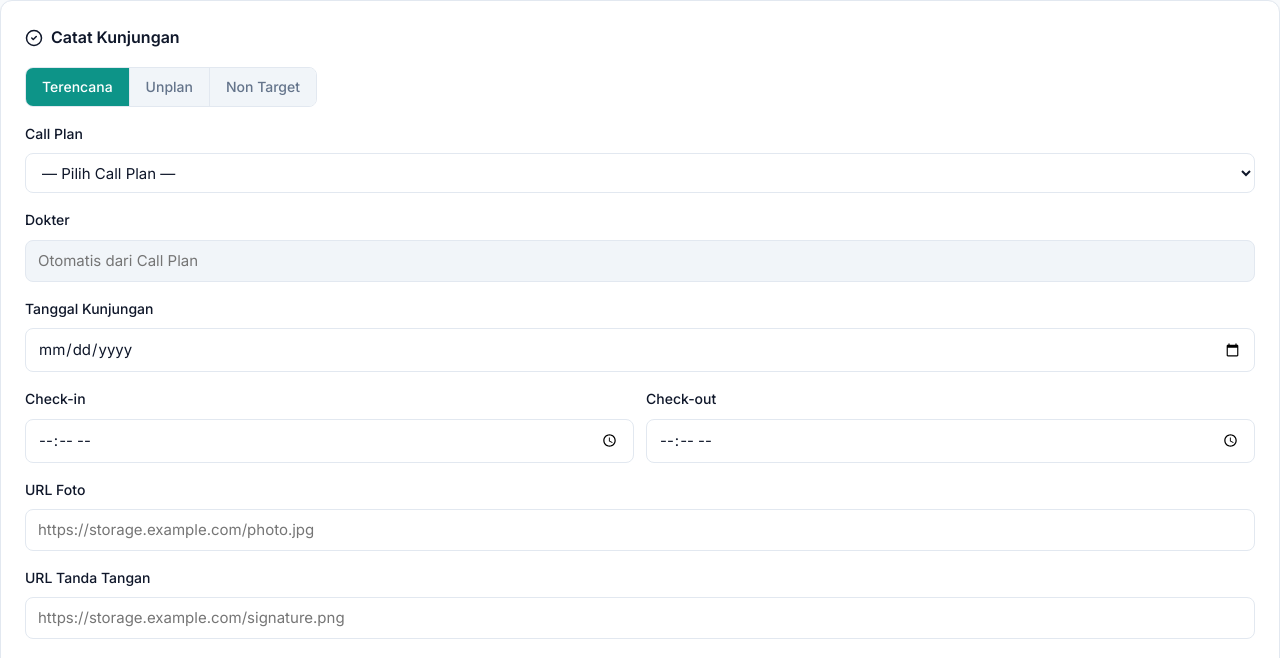
it: CallActualForm — mode switching › switching to Non Target shows MCL Doctor dropdown
Click the button "Non Target" at (263, 87), box [210,68,316,106]
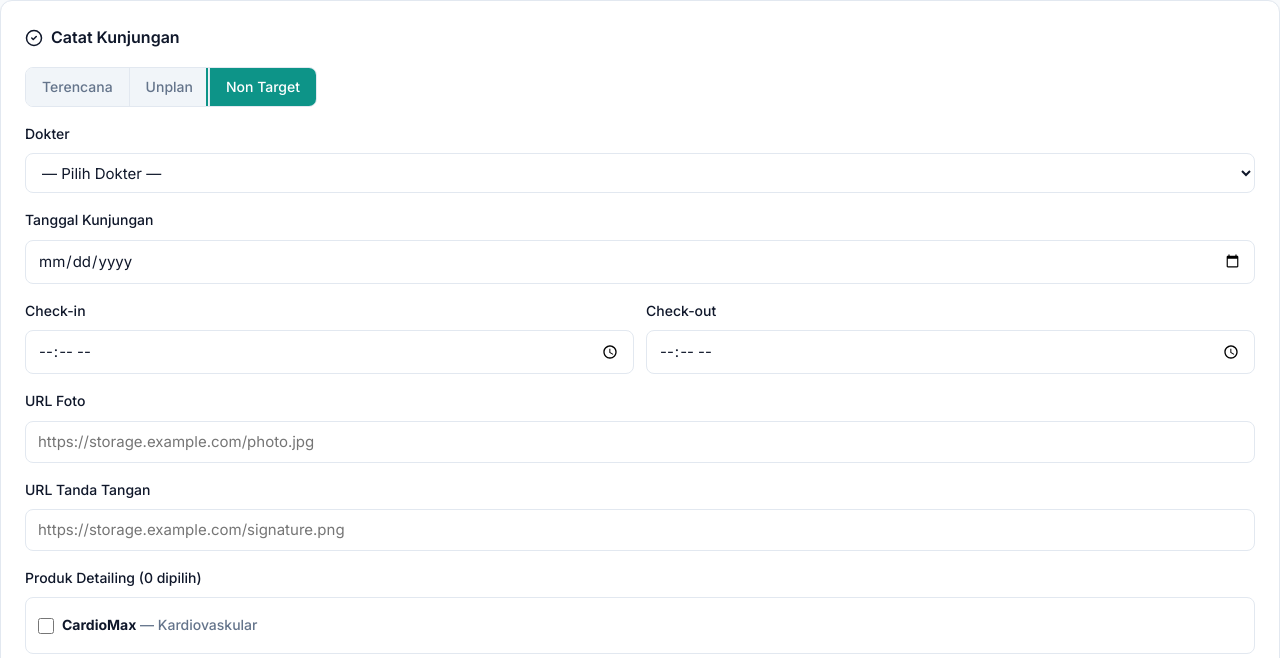
Check: the label labelled "Call Plan" is gone
